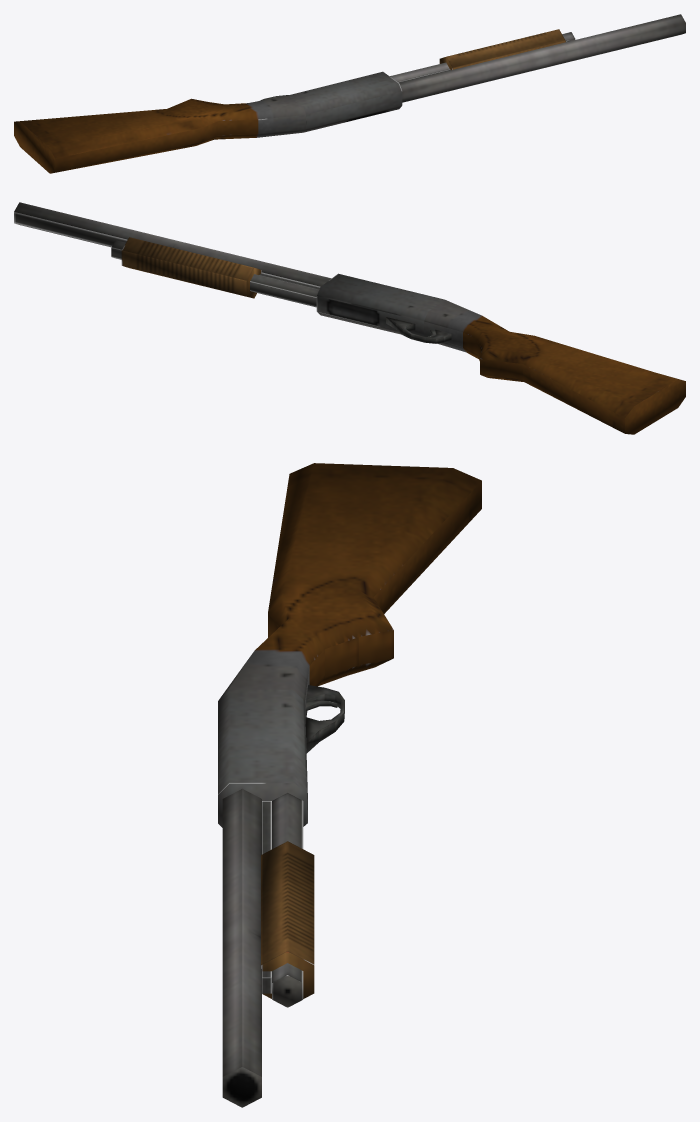
The model's file is shotgun.glb.
3 renders of one model, top to bottom at view 1: azimuth 30°, elevation 25°; view 2: azimuth 150°, elevation 25°; view 3: azimuth 270°, elevation 25°, orthographic. The views are drawn at different scales.
Parts seen in each view (by area): view 1: Shotgun; view 2: Shotgun; view 3: Shotgun.
Part boxes in pixels (x1=…): Shotgun: x1=14, y1=14, x2=685, y2=173; Shotgun: x1=14, y1=202, x2=685, y2=434; Shotgun: x1=218, y1=463, x2=481, y2=1107.
Bounding box in the file's own units: 5 × 0.2176 × 0.9312.
Materials: 1 (1 with a texture image).
